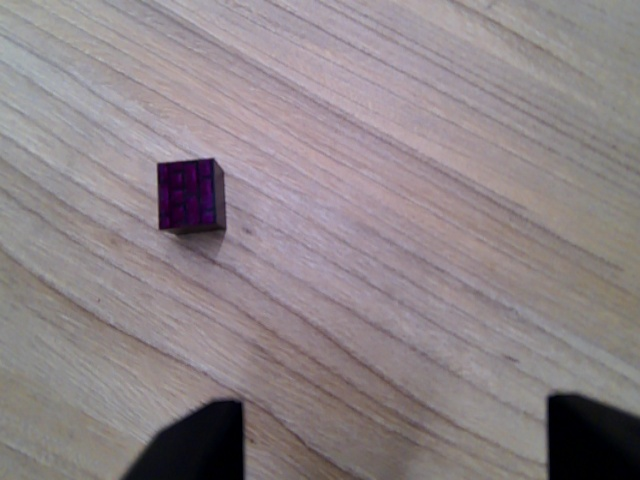brick: (146, 156, 235, 237)
